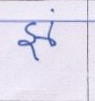anusvara: (51, 9, 54, 12)
